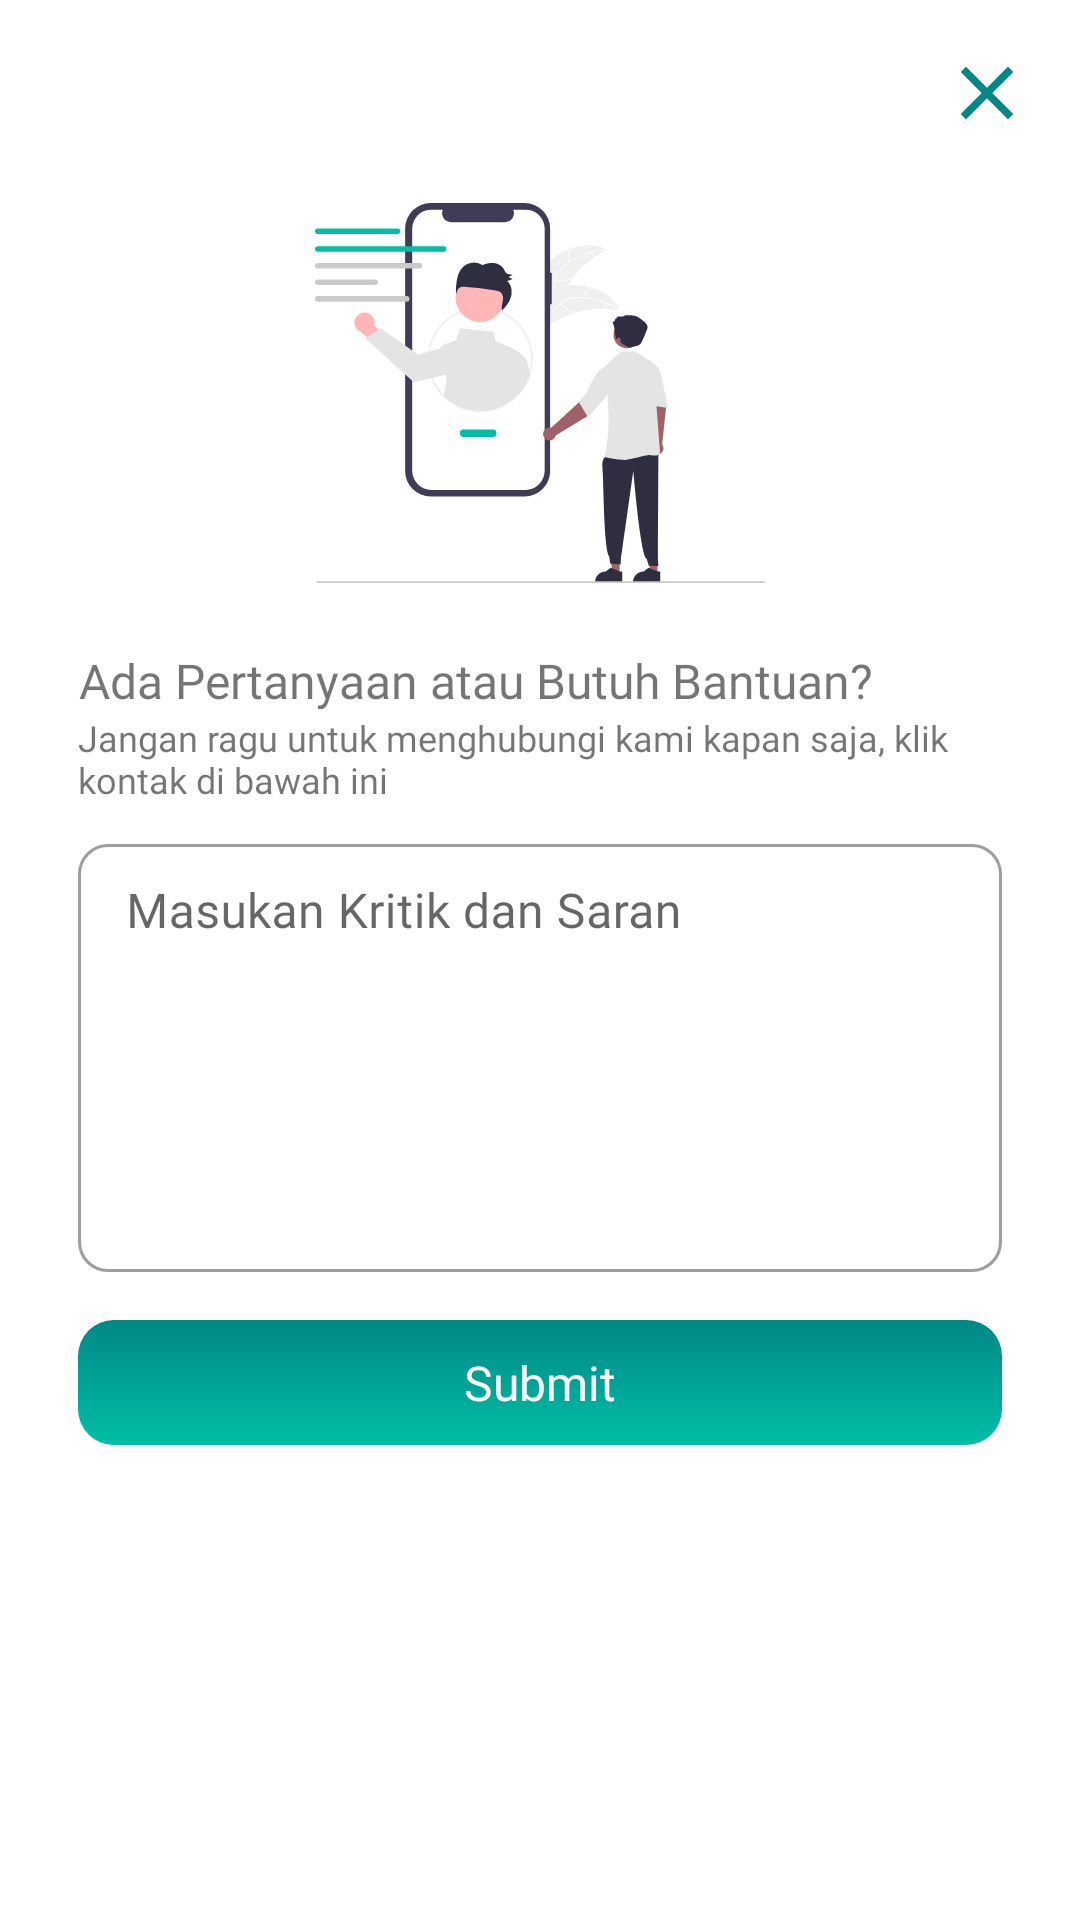

Named icons in this screenshot (1080x1920) and their bounding boxes, (x1, y1, x2, y2):
close: (961, 67, 1013, 119)
